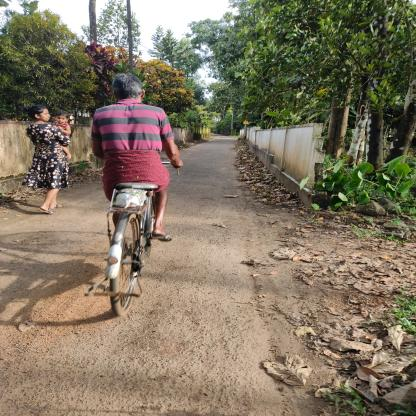bike: (81, 148, 190, 323)
